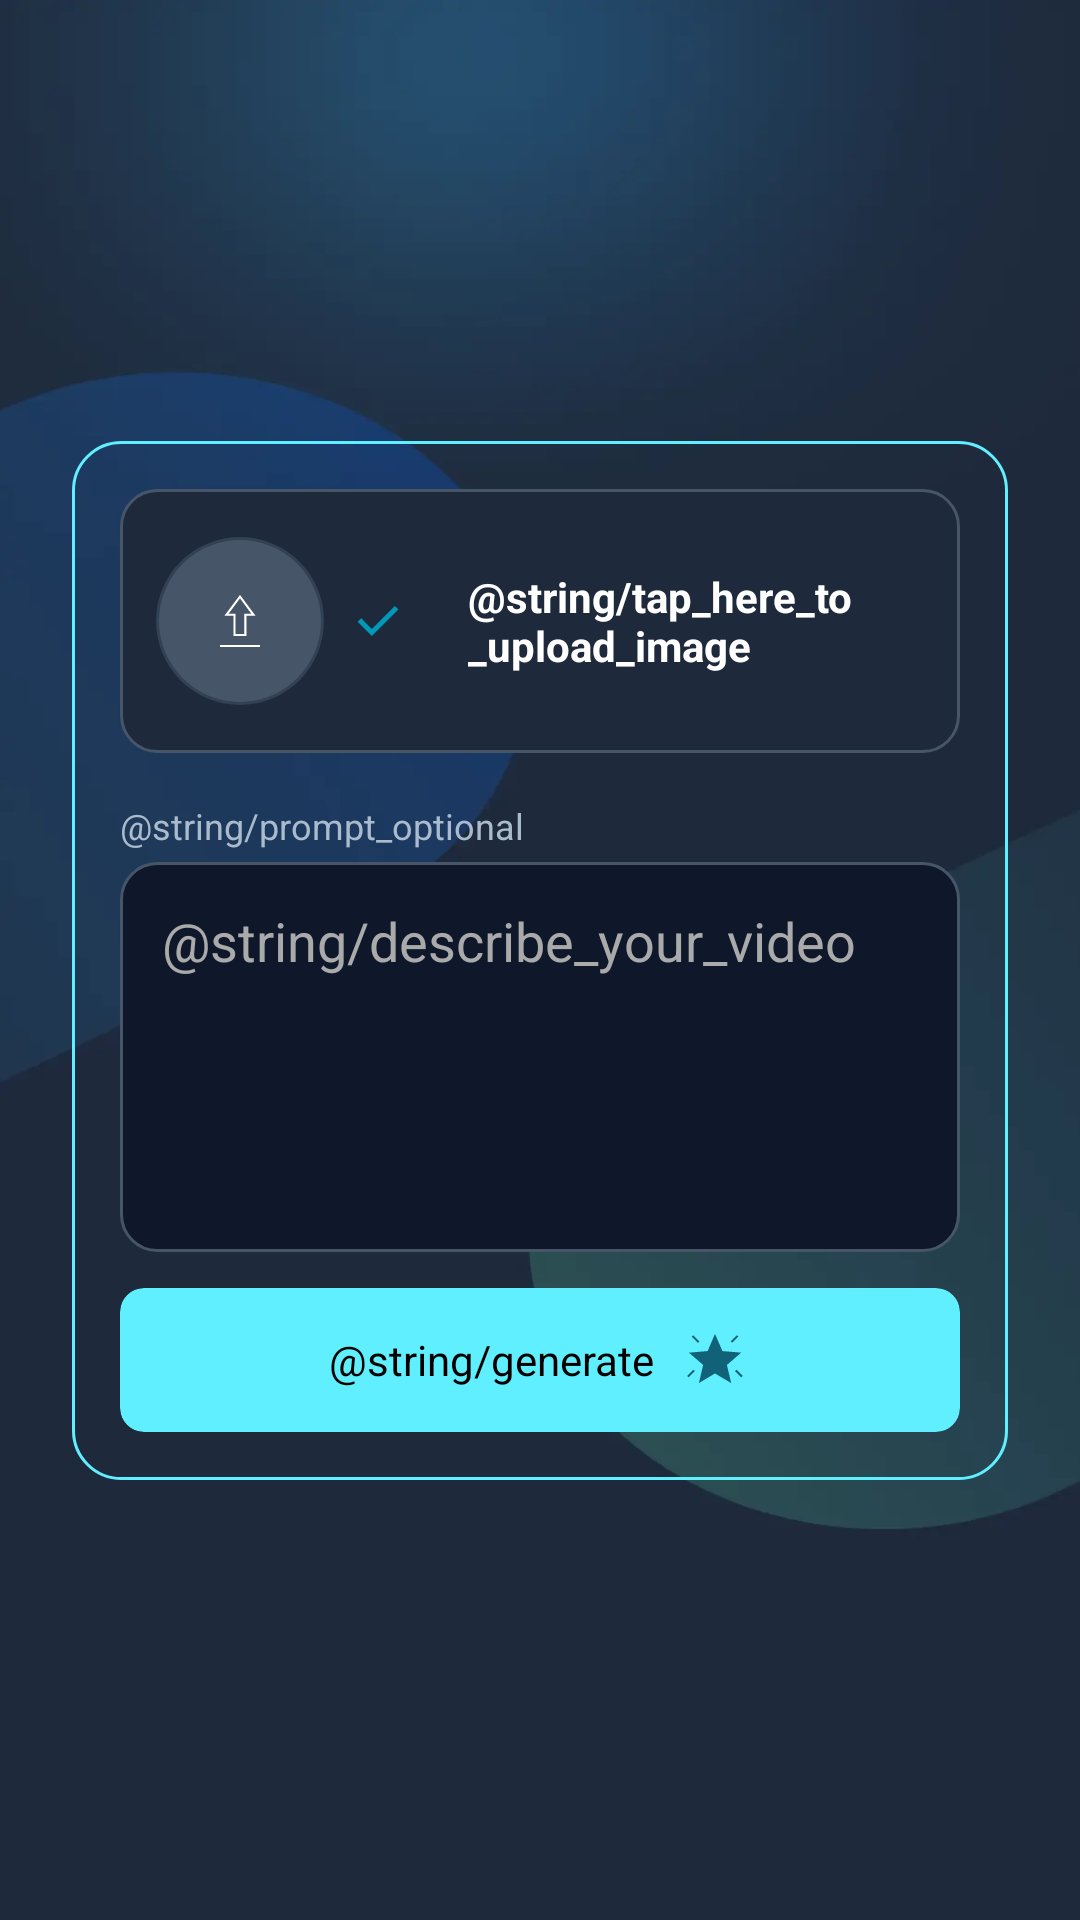

Icon click points for this 1080 x 1920 phone screenshot, format [x,y]:
check: [378,621]
star: [715,1358]
